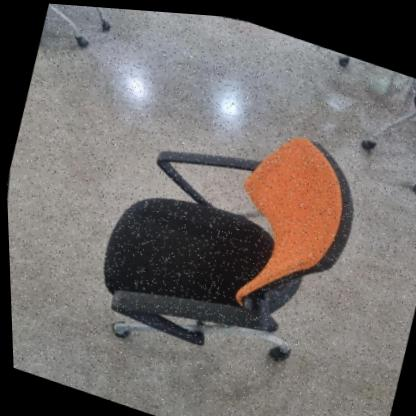Chair: (1, 23, 416, 416)
